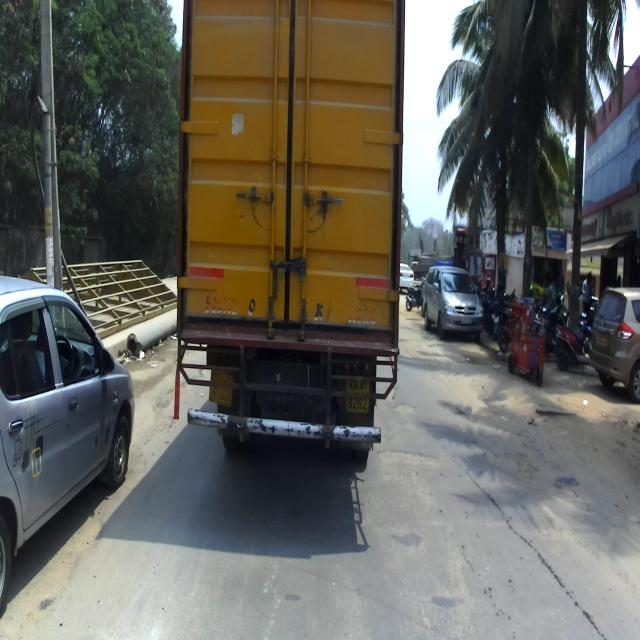car ahead at: (0, 266, 134, 608)
truck ahead at: (174, 0, 401, 466)
